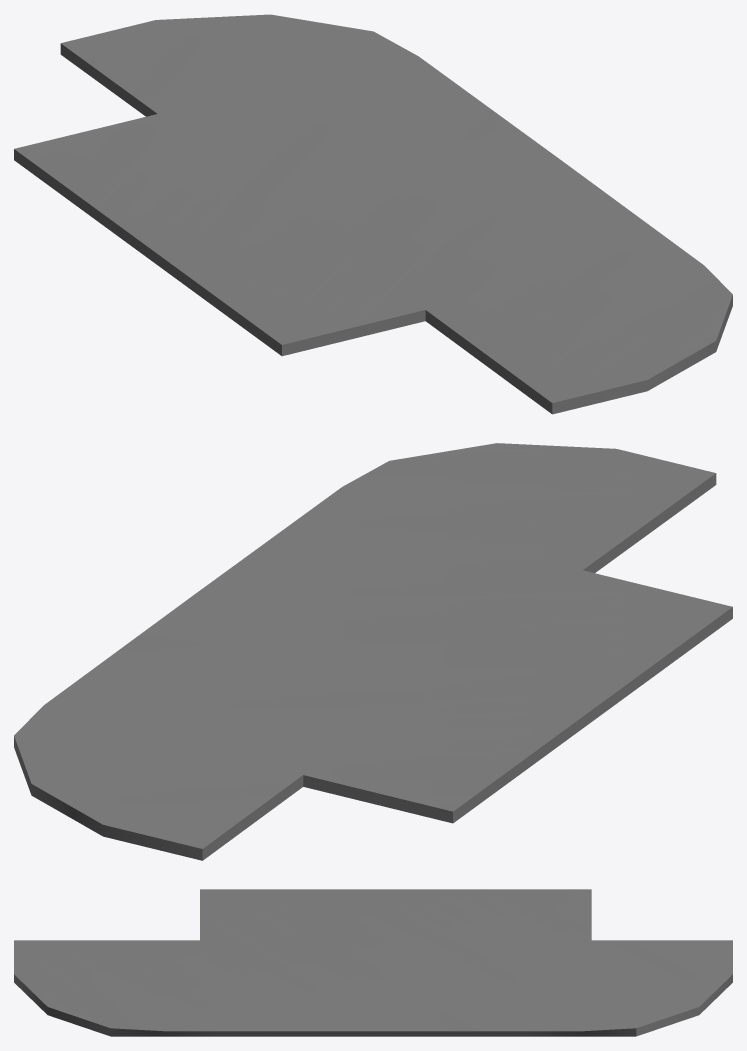
Rendered from floor_high.fbx.
3 renders of one model, top to bottom at view 1: azimuth 30°, elevation 25°; view 2: azimuth 150°, elevation 25°; view 3: azimuth 270°, elevation 25°, orthographic. The views are drawn at different scales.
Visible parts, largest first — view 1: floor_high; view 2: floor_high; view 3: floor_high.
Boxes of the visible parts, bbox=[...] form: floor_high: bbox=[14, 14, 732, 414]; floor_high: bbox=[14, 443, 732, 860]; floor_high: bbox=[14, 889, 732, 1036].
Size of the model in its own units: 1463 by 39.6 by 3125.
